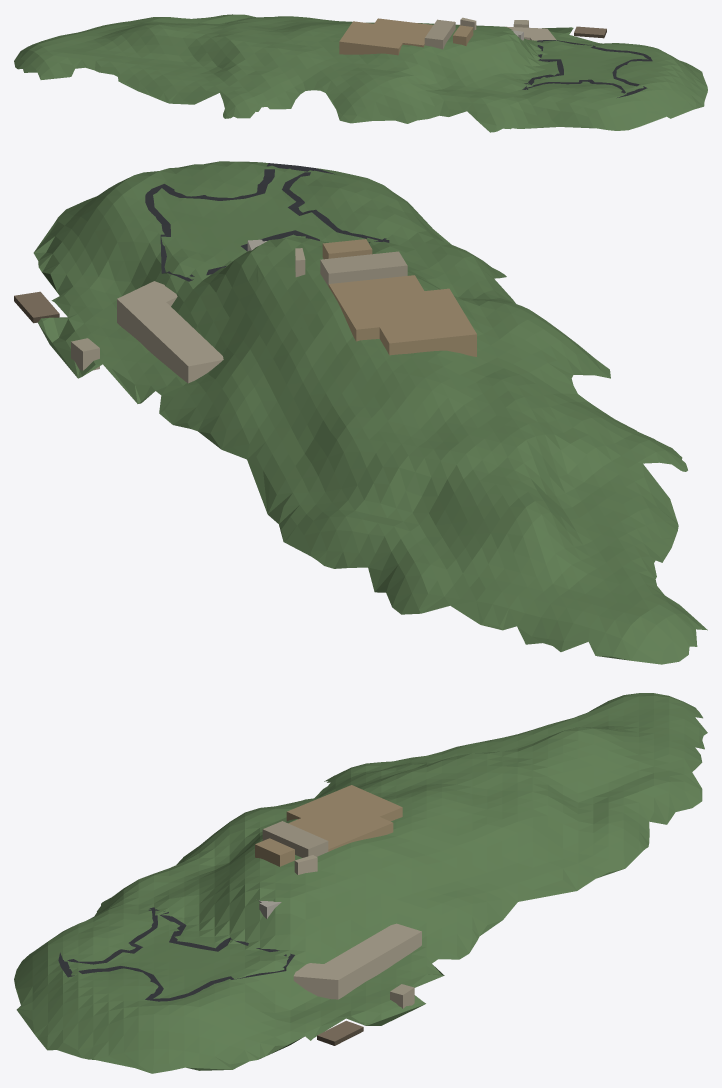
File: tile_11_6.glb
The picture shows the model from 3 angles, top to bottom: view 1: azimuth 30°, elevation 25°; view 2: azimuth 150°, elevation 25°; view 3: azimuth 270°, elevation 25°; orthographic projection. The views are drawn at different scales.
Parts seen in each view (by area): view 1: grn_11_6, bld_11_6, road_11_6; view 2: grn_11_6, bld_11_6, road_11_6; view 3: grn_11_6, bld_11_6, road_11_6.
Part boxes in pixels (x1,y1,x2,y2): grn_11_6: [14, 14, 707, 132]; bld_11_6: [339, 17, 556, 55]; road_11_6: [522, 40, 652, 97]; grn_11_6: [14, 161, 707, 664]; bld_11_6: [71, 239, 476, 383]; road_11_6: [145, 163, 389, 281]; grn_11_6: [14, 693, 707, 1073]; bld_11_6: [255, 785, 421, 1008]; road_11_6: [58, 907, 294, 1001].
Size of the model in its own units: 461 by 51.47 by 366.
